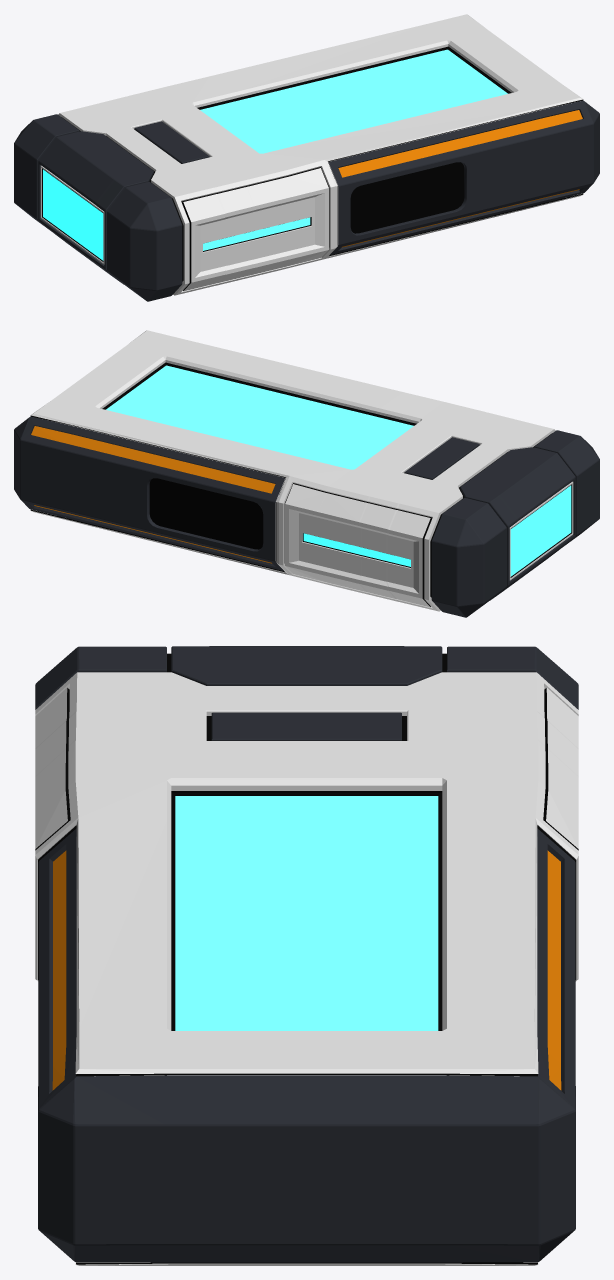
Rendered from SM_Handheld_Scanner.fbx.
The picture shows the model from 3 angles, top to bottom: view 1: azimuth 30°, elevation 25°; view 2: azimuth 150°, elevation 25°; view 3: azimuth 270°, elevation 25°; orthographic projection. The views are drawn at different scales.
Parts seen in each view (by area): view 1: SM_Handheld_Scanner; view 2: SM_Handheld_Scanner; view 3: SM_Handheld_Scanner.
Boxes of the visible parts, left/top/right/bottom form: SM_Handheld_Scanner: left=14, top=14, right=599, bottom=301; SM_Handheld_Scanner: left=14, top=330, right=599, bottom=617; SM_Handheld_Scanner: left=35, top=646, right=578, bottom=1265.
Size of the model in its own units: 29.97 by 6.05 by 15.
